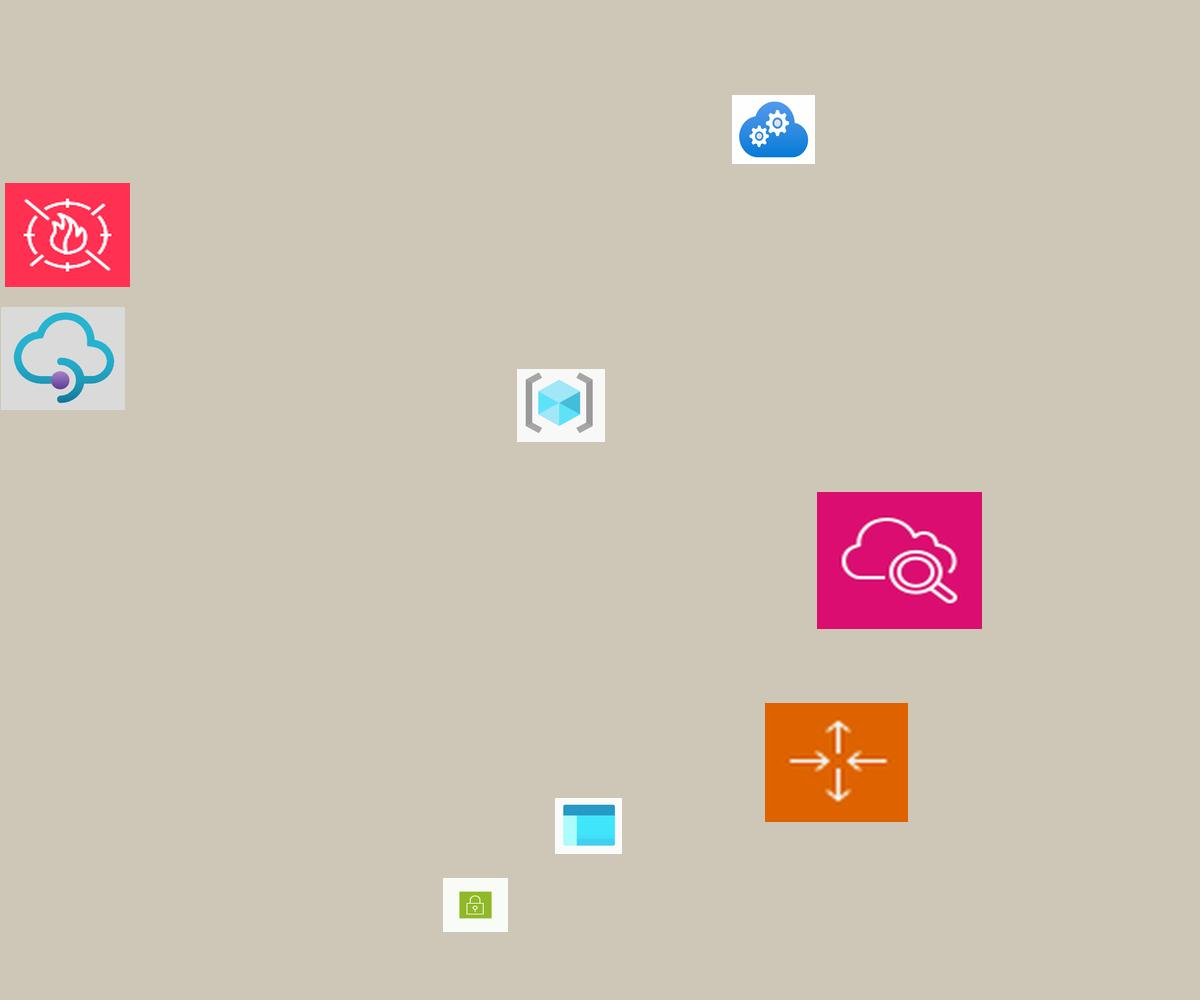AWS-CloudWatch: (817, 492, 982, 629)
AWS-Public-subnet: (443, 878, 508, 932)
AWS-Scaling-group: (765, 703, 908, 822)
AWS-WAF: (5, 183, 130, 287)
Azure_api_gateway: (1, 307, 125, 410)
Azure_cloud_services: (732, 95, 815, 164)
Azure_management-portal: (555, 798, 622, 854)
Azure_resource_group: (517, 369, 605, 442)
